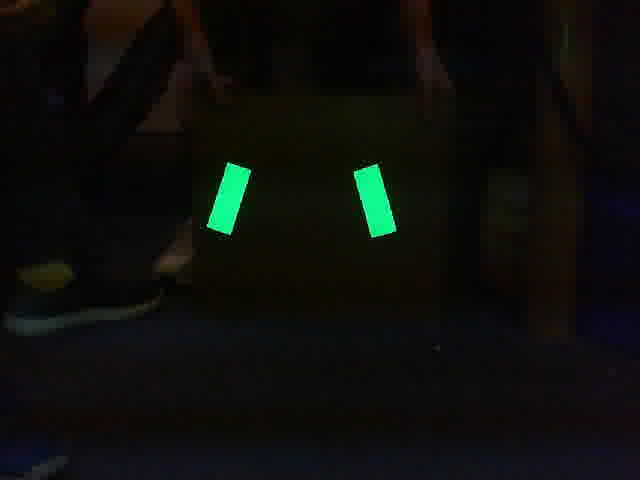target: (205, 162, 399, 240)
